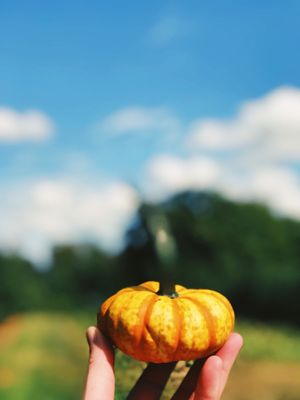steak: (97, 280, 236, 365)
